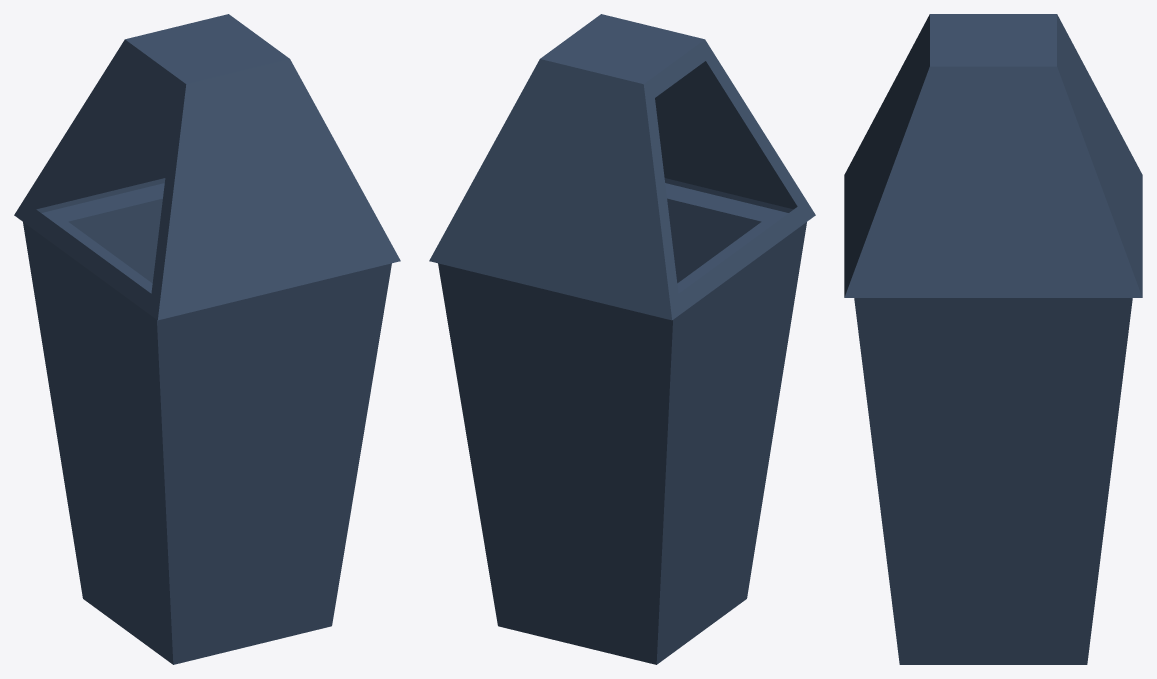
The model's file is Recycling_Bin.fbx.
3 renders of one model, left to right at view 1: azimuth 30°, elevation 25°; view 2: azimuth 150°, elevation 25°; view 3: azimuth 270°, elevation 25°, orthographic. The views are drawn at different scales.
Visible parts, largest first — view 1: Base, Top; view 2: Base, Top; view 3: Base, Top.
Boxes of the visible parts, x1,y1,x2,y2 form: Base: (23, 178, 391, 664); Top: (14, 14, 400, 320); Base: (438, 178, 806, 664); Top: (429, 14, 815, 320); Base: (854, 298, 1132, 664); Top: (844, 14, 1142, 297).
Bounding box in the file's own units: 0.4008 × 0.8873 × 0.4103.
